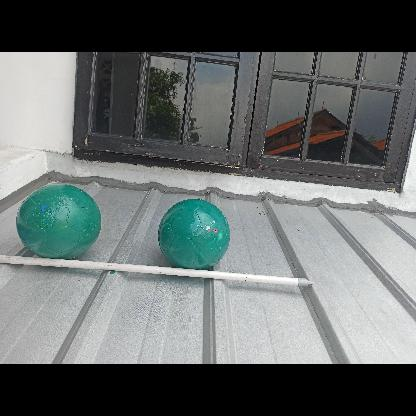green_ball: (16, 178, 100, 262), (159, 199, 231, 271)
